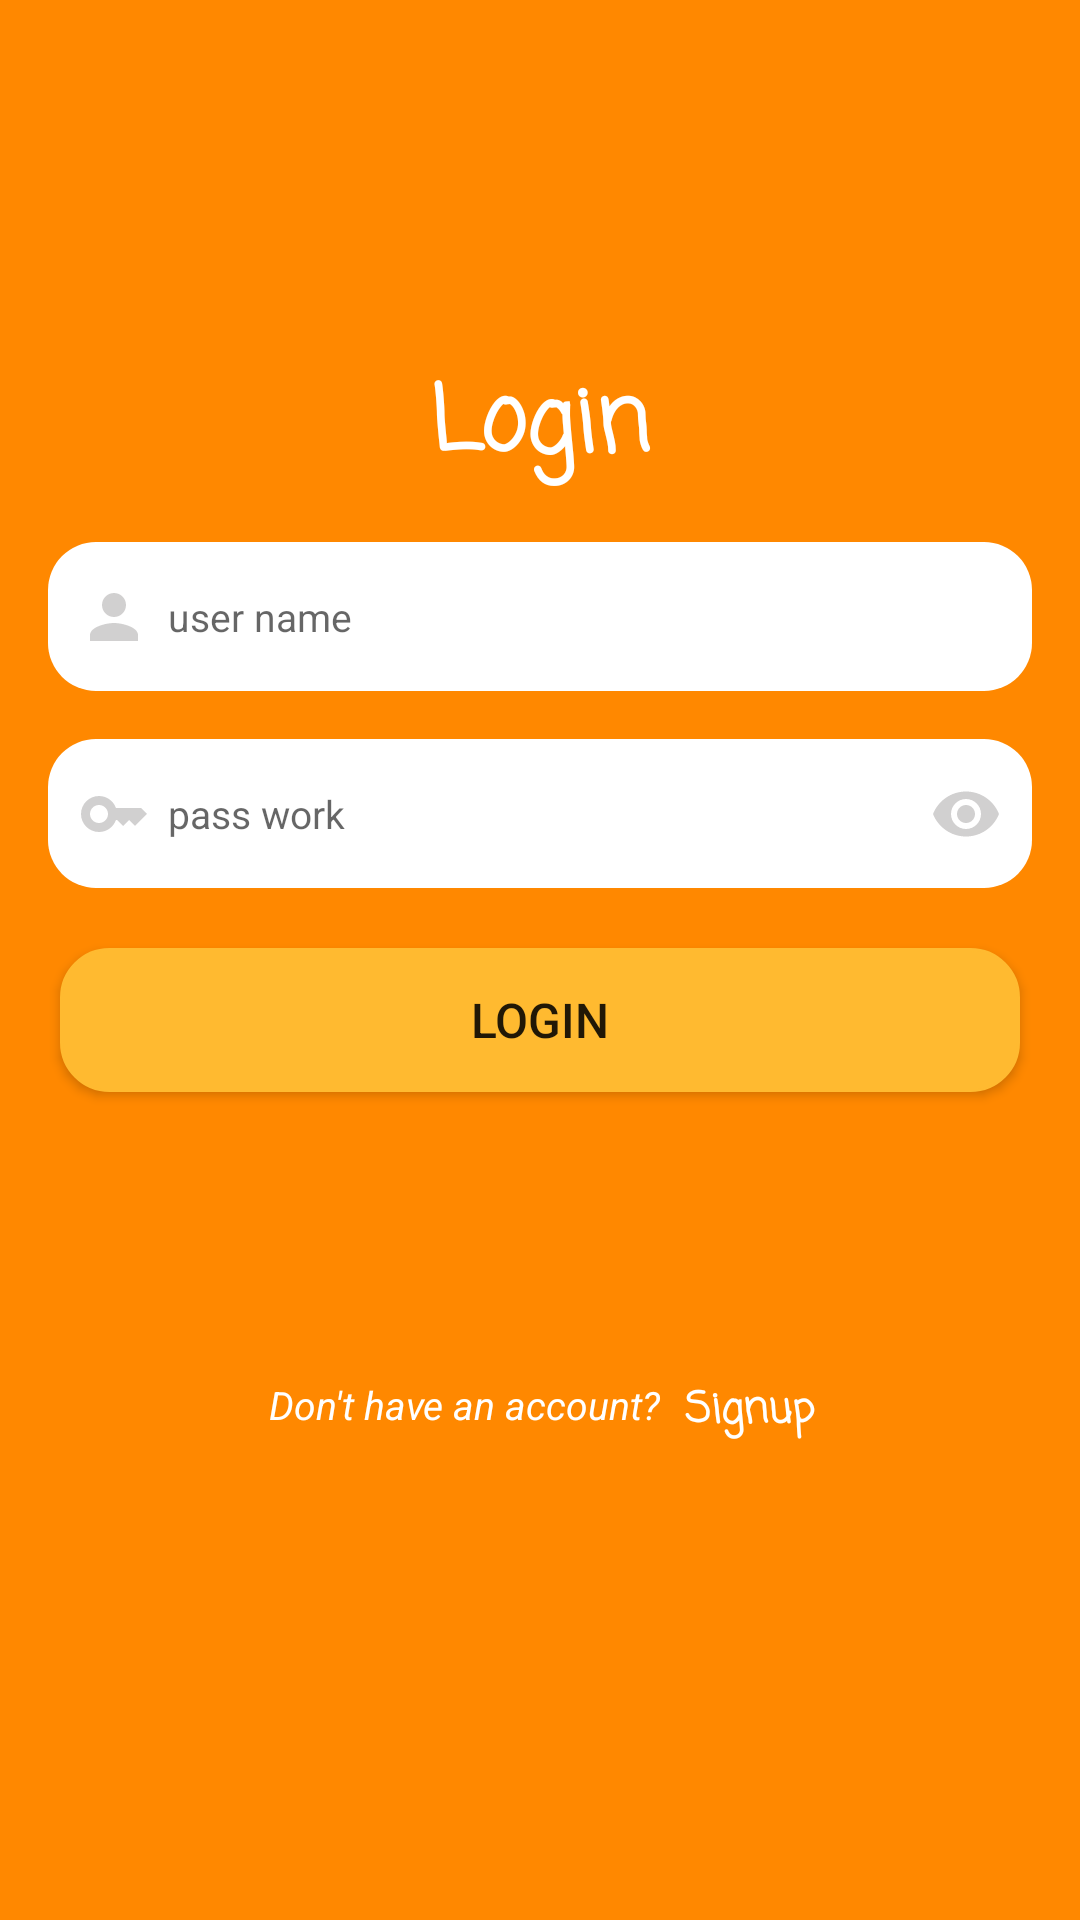

Where icons sit on this 1080×1920 app screen, as bbox(x1, y1, x2, y2):
eye: bbox(933, 792, 999, 836)
password: bbox(81, 796, 147, 832)
